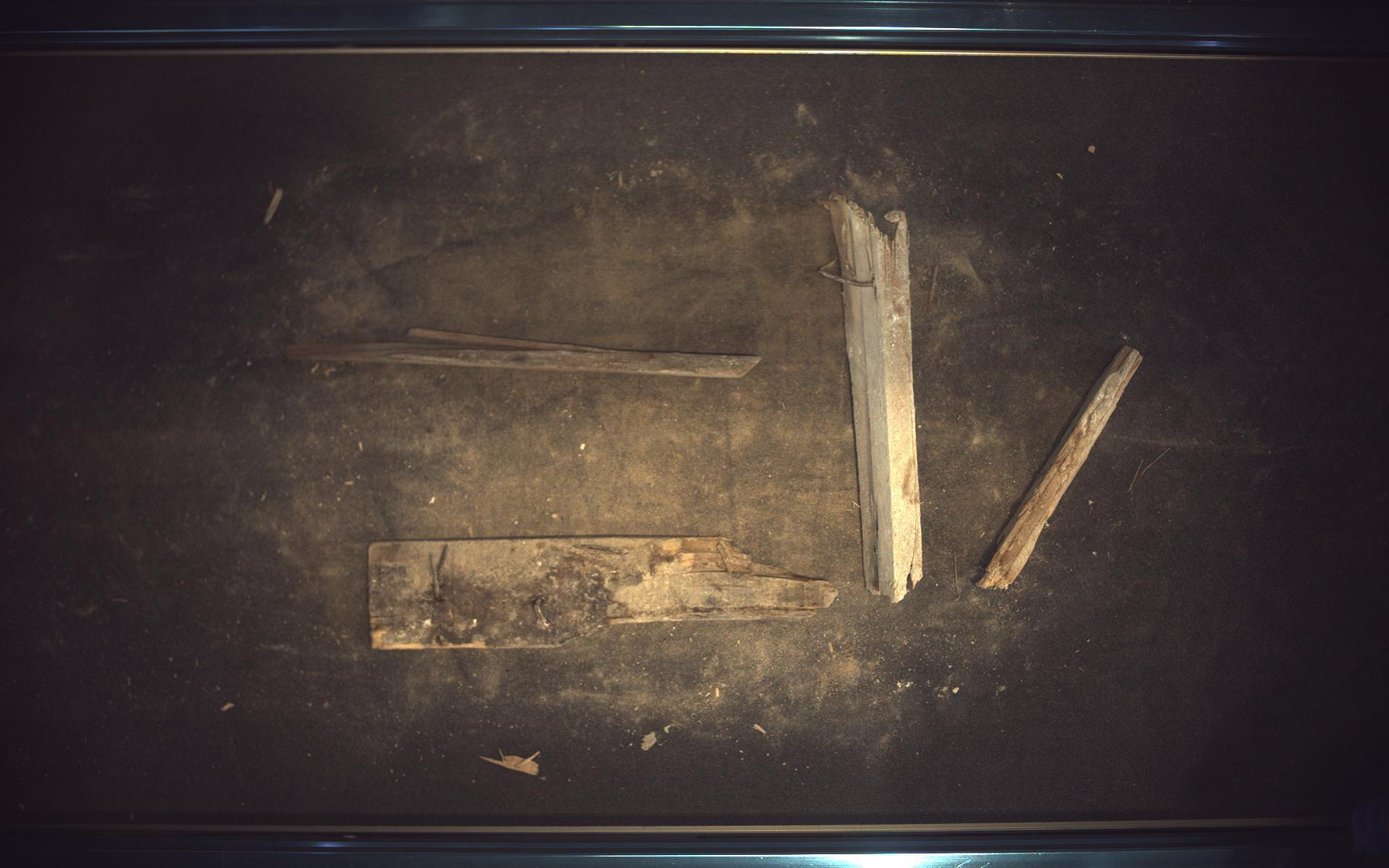wood: (368, 537, 838, 650), (824, 193, 925, 603), (978, 346, 1144, 590), (286, 328, 761, 378), (480, 750, 541, 778)
